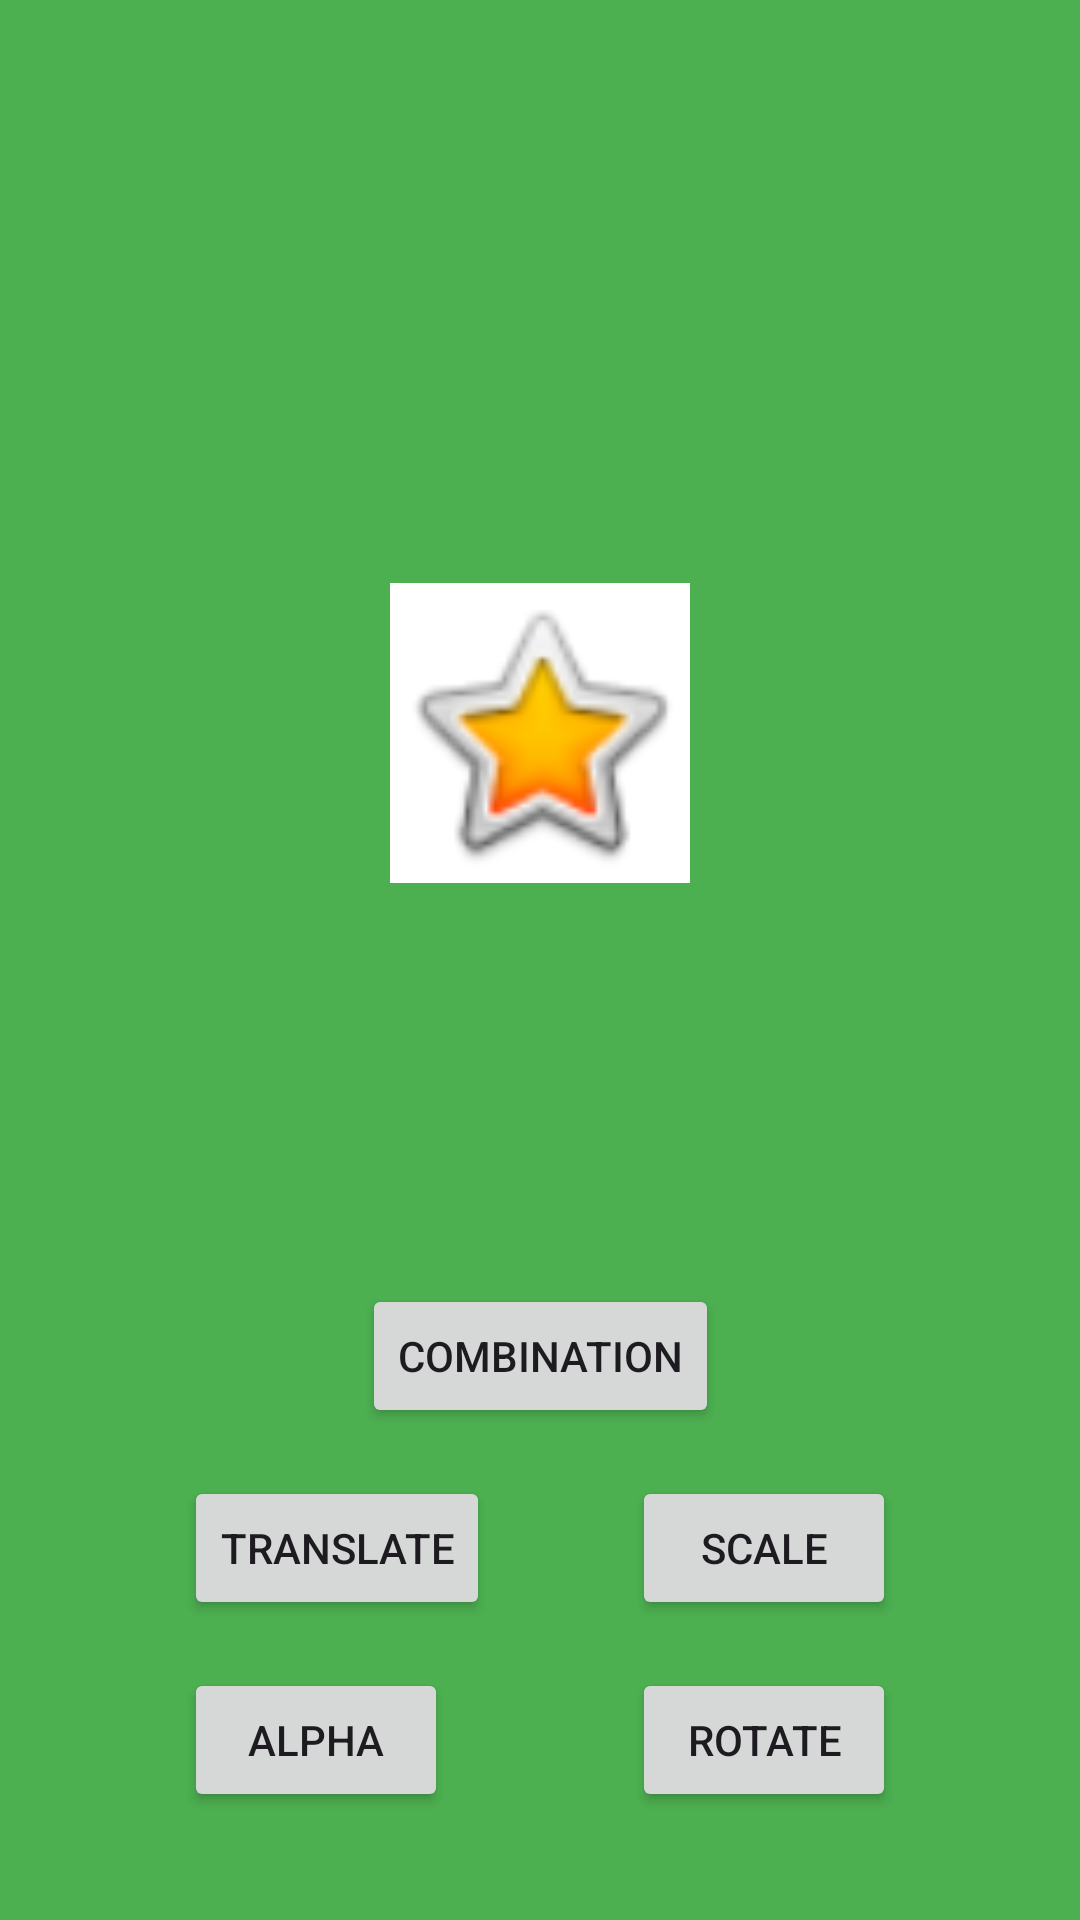

Where to tap for icons on this 1080 × 1920 app screen, as [x,y]:
star on: [540,733]
